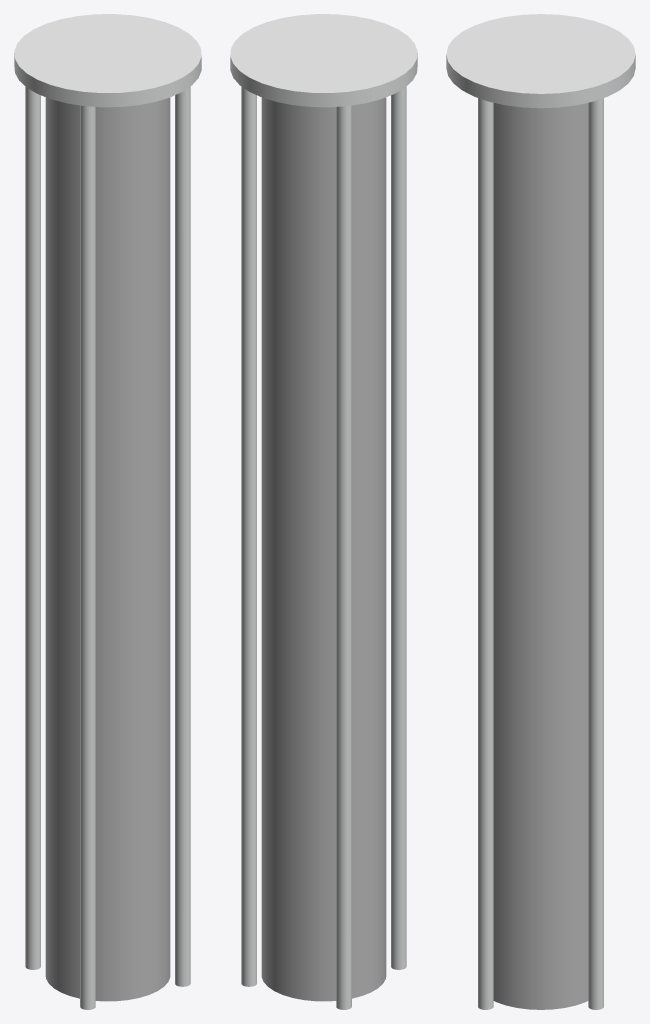
File: SkytreeConstructionTowerTop.obj
The picture shows the model from 3 angles, left to right: view 1: azimuth 30°, elevation 25°; view 2: azimuth 150°, elevation 25°; view 3: azimuth 270°, elevation 25°; orthographic projection.
Visible parts, largest first — view 1: Col-7_Cylinder, Col-11_Cylinder.006, Col-10_Cylinder.005, Col-8_Cylinder.003, Col-1_Circle.001, Col-12_Cylinder.007; view 2: Col-7_Cylinder, Col-8_Cylinder.003, Col-9_Cylinder.004, Col-11_Cylinder.006, Col-1_Circle.001, Col-12_Cylinder.007; view 3: Col-7_Cylinder, Col-9_Cylinder.004, Col-10_Cylinder.005, Col-1_Circle.001, Col-12_Cylinder.007.
Part boxes in pixels (x1,y1,x2,y2): Col-7_Cylinder: [45, 97, 170, 1001]; Col-11_Cylinder.006: [80, 105, 95, 1009]; Col-10_Cylinder.005: [175, 86, 190, 986]; Col-8_Cylinder.003: [25, 86, 40, 969]; Col-1_Circle.001: [14, 14, 201, 92]; Col-12_Cylinder.007: [14, 53, 201, 107]; Col-7_Cylinder: [261, 97, 386, 1001]; Col-8_Cylinder.003: [336, 105, 351, 1009]; Col-9_Cylinder.004: [241, 86, 256, 986]; Col-11_Cylinder.006: [391, 86, 406, 969]; Col-1_Circle.001: [230, 14, 417, 92]; Col-12_Cylinder.007: [230, 53, 417, 107]; Col-7_Cylinder: [493, 103, 588, 1009]; Col-9_Cylinder.004: [588, 98, 603, 1009]; Col-10_Cylinder.005: [478, 98, 493, 1009]; Col-1_Circle.001: [446, 14, 635, 93]; Col-12_Cylinder.007: [446, 55, 635, 108].
Size of the model in its own units: 6 by 32.5 by 6.
